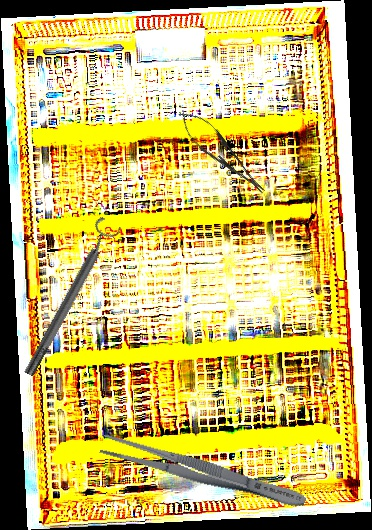Dressing Forceps: (98, 430, 309, 515)
Fixation Ring: (15, 215, 124, 381)
Needle Holder: (170, 102, 274, 203)
